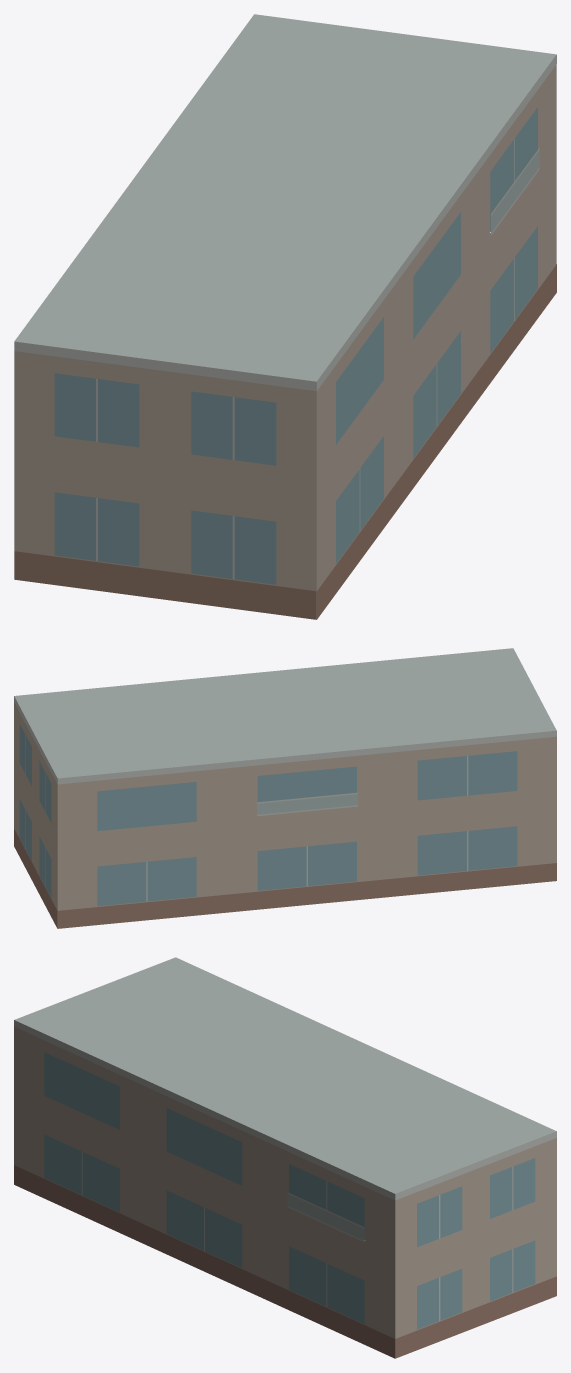
Rendered from survey-upis-32691224.glb.
The picture shows the model from 3 angles, top to bottom: view 1: azimuth 30°, elevation 25°; view 2: azimuth 150°, elevation 25°; view 3: azimuth 270°, elevation 25°; orthographic projection. The views are drawn at different scales.
Parts seen in each view (by area): view 1: survey-upis-32691224.tmp; view 2: survey-upis-32691224.tmp; view 3: survey-upis-32691224.tmp.
Boxes of the visible parts, x1,y1,x2,y2 form: survey-upis-32691224.tmp: (14,14,556,619); survey-upis-32691224.tmp: (14,648,556,928); survey-upis-32691224.tmp: (14,957,556,1358).
Size of the model in its own units: 18.81 by 6.1 by 18.22.
